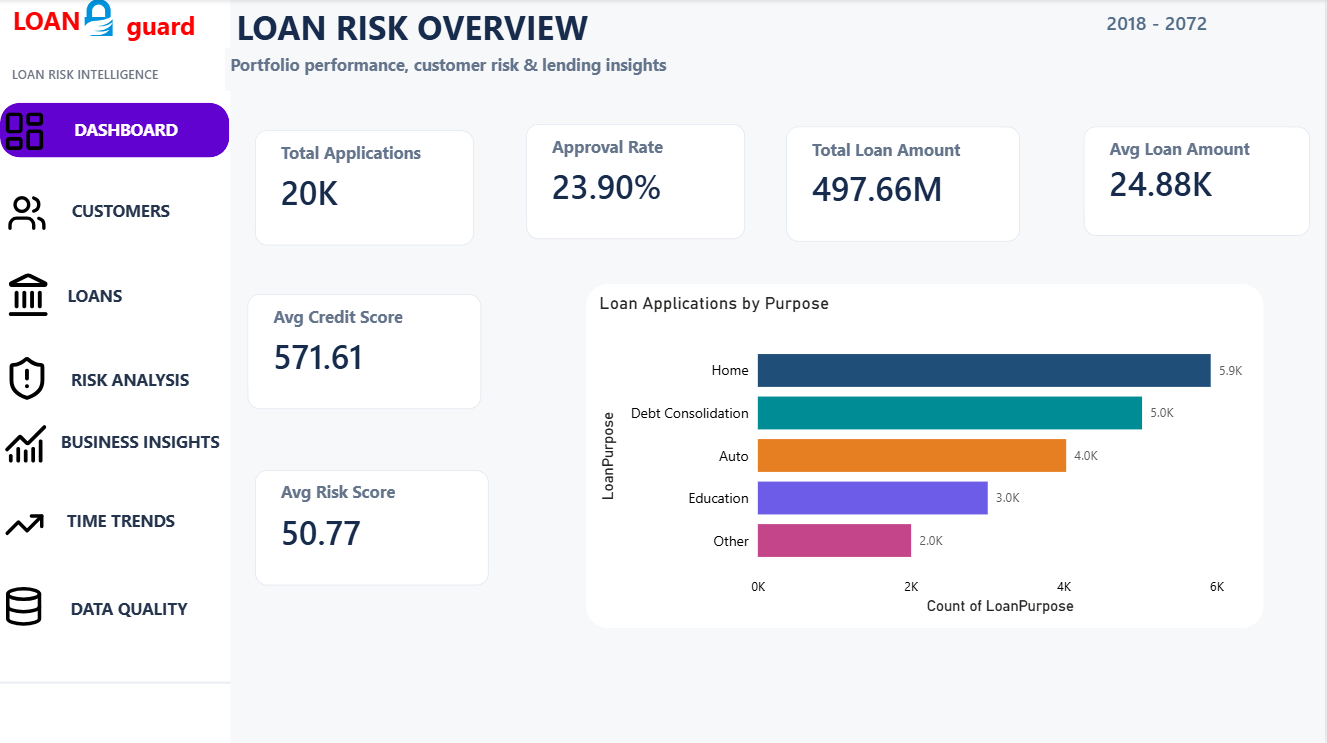

What the dashboard file says about the page in this screenshot:
{"tool":"powerbi","page":{"name":"Executive Overview","canvas":[1280,720],"ordinal":0},"visuals":[{"type":"shape","box":[0,0,222.5,720],"z":0},{"type":"group","id":"g1","title":"Group 3","box":[0,0,220.9,606.2],"z":0,"group":"g2"},{"type":"textbox","box":[0,57.5,220.9,31.1],"z":0,"group":"g1"},{"type":"shape","box":[0,644.9,222.3,28.8],"z":0,"group":"g3"},{"type":"textbox","box":[26.2,182.5,180,48.7],"z":1000,"group":"g1"},{"type":"textbox","box":[6.8,480,175,48.2],"z":1000},{"type":"shape","box":[0,100,221.3,52.8],"z":2000},{"type":"textbox","box":[4.1,262.7,175.7,48.2],"z":2000,"group":"g1"},{"type":"textbox","box":[45.3,404.1,175,48.2],"z":3000,"group":"g1"},{"type":"textbox","box":[18.7,565.1,175,48.2],"z":3000},{"type":"group","id":"g2","title":"Group 2","box":[0,0,220.9,606.2],"z":4000},{"type":"textbox","box":[28.9,343.8,188,48.2],"z":4000,"group":"g1"},{"type":"textbox","box":[34.2,102.4,175.7,48.2],"z":5000,"group":"g1"},{"type":"group","id":"g3","title":"Group 1","box":[0,644.9,222.3,28.8],"z":5000},{"type":"actionButton","box":[0,182.5,193.8,48.8],"z":6000},{"type":"image","box":[0,186.5,52.1,38.9],"z":6000,"group":"g1"},{"type":"image","box":[1.4,106.8,45.3,43.5],"z":7000,"group":"g1"},{"type":"actionButton","box":[6.2,258.8,160,48.8],"z":7000},{"type":"image","box":[0,262.7,54.9,45.1],"z":8000,"group":"g1"},{"type":"actionButton","box":[3.8,346.2,177.5,43.8],"z":8000},{"type":"image","box":[4.1,343.5,45.3,45.1],"z":9000,"group":"g1"},{"type":"actionButton","box":[0,407.5,211.2,46.2],"z":9000},{"type":"image","box":[0,407.2,49.4,43.5],"z":10000,"group":"g1"},{"type":"actionButton","box":[2.5,480,187.5,46.2],"z":10000},{"type":"image","box":[4.1,480.3,39.8,54.4],"z":11000,"group":"g1"},{"type":"actionButton","box":[0,561.2,192.5,50],"z":11000},{"type":"textbox","box":[222.9,0,378.6,55.7],"z":12000},{"type":"image","box":[0,565.8,45.3,40.4],"z":12000,"group":"g1"},{"type":"textbox","box":[6.9,0,85.1,57.5],"z":13000,"group":"g1"},{"type":"textbox","box":[217.1,47.1,445.7,41.4],"z":13000},{"type":"image","box":[70,0,50.8,35.7],"z":14000,"group":"g1"},{"type":"textbox","box":[1062.9,4.3,130,41.4],"z":14000},{"type":"textbox","box":[116.6,4.7,86.5,51.3],"z":15000,"group":"g1"},{"type":"cardVisual","fields":{"Data":["loanguard loan_applications.Total Applications"]},"box":[246.1,126.7,211.4,111.4],"z":15000},{"type":"cardVisual","fields":{"Data":["loanguard loan_applications.Approval Rate"]},"box":[507.9,120.6,211.4,111.4],"z":16000},{"type":"cardVisual","fields":{"Data":["Sum(loanguard loan_applications.LoanAmount)"]},"box":[758.9,123.1,225.7,111.4],"z":17000},{"type":"cardVisual","fields":{"Data":["loanguard loan_applications.Avg Loan Amount"]},"box":[1046,123.1,218.6,105.7],"z":18000},{"type":"cardVisual","fields":{"Data":["loanguard loan_applications.Avg Credit Score"]},"box":[238.9,284.7,225.7,111.4],"z":19000},{"type":"cardVisual","fields":{"Data":["loanguard loan_applications.Avg Risk Score"]},"box":[246.1,454.8,225.6,111],"z":20000},{"type":"clusteredBarChart","title":"Loan Applications by Purpose","fields":{"Category":["loanguard loan_applications.LoanPurpose"],"Y":["CountNonNull(loanguard loan_applications.LoanPurpose)"]},"box":[566.2,275,653.9,331.8],"z":21000}]}

Visuals, with their boxes in screenshot pixels (x1, y1, x2, y2), scaled from the page's 1280x720 canvas onto the 1327x743 screenshot:
shape: (0, 0, 231, 742)
"Group 3" group: (0, 0, 229, 626)
textbox: (0, 59, 229, 91)
shape: (0, 666, 230, 695)
textbox: (27, 188, 214, 239)
textbox: (7, 495, 188, 545)
shape: (0, 103, 229, 158)
textbox: (4, 271, 186, 321)
textbox: (47, 417, 228, 467)
textbox: (19, 583, 201, 633)
"Group 2" group: (0, 0, 229, 626)
textbox: (30, 355, 225, 405)
textbox: (35, 106, 218, 155)
"Group 1" group: (0, 666, 230, 695)
actionButton: (0, 188, 201, 239)
image: (0, 192, 54, 233)
image: (1, 110, 48, 155)
actionButton: (6, 267, 172, 317)
image: (0, 271, 57, 318)
actionButton: (4, 357, 188, 402)
image: (4, 354, 51, 401)
actionButton: (0, 421, 219, 468)
image: (0, 420, 51, 465)
actionButton: (3, 495, 197, 543)
image: (4, 496, 46, 552)
actionButton: (0, 579, 200, 631)
textbox: (231, 0, 624, 57)
image: (0, 584, 47, 626)
textbox: (7, 0, 95, 59)
textbox: (225, 49, 687, 91)
image: (73, 0, 125, 37)
textbox: (1102, 4, 1237, 47)
textbox: (121, 5, 211, 58)
cardVisual - loanguard loan_applications.Total Applications: (255, 131, 474, 246)
cardVisual - loanguard loan_applications.Approval Rate: (527, 124, 746, 239)
cardVisual - Sum(loanguard loan_applications.LoanAmount): (787, 127, 1021, 242)
cardVisual - loanguard loan_applications.Avg Loan Amount: (1084, 127, 1311, 236)
cardVisual - loanguard loan_applications.Avg Credit Score: (248, 294, 482, 409)
cardVisual - loanguard loan_applications.Avg Risk Score: (255, 469, 489, 584)
"Loan Applications by Purpose" clusteredBarChart: (587, 284, 1265, 626)
